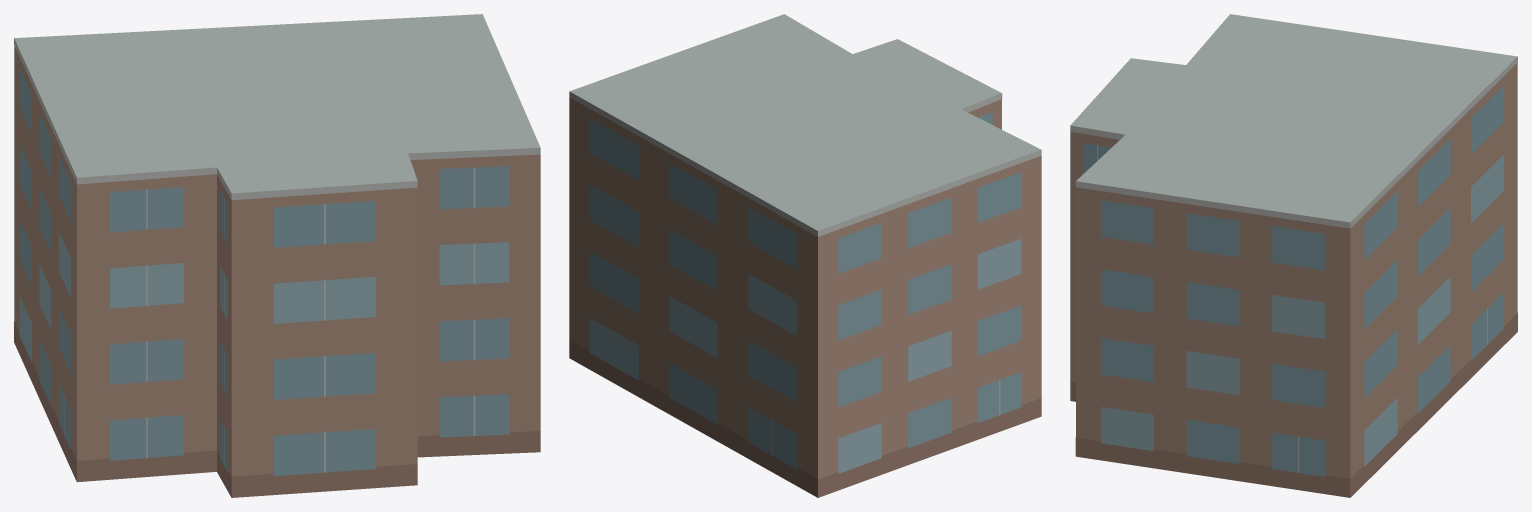
File: survey-upis-32676763.glb
The picture shows the model from 3 angles, left to right: view 1: azimuth 30°, elevation 25°; view 2: azimuth 150°, elevation 25°; view 3: azimuth 270°, elevation 25°; orthographic projection. The views are drawn at different scales.
Visible parts, largest first — view 1: survey-upis-32676763.tmp; view 2: survey-upis-32676763.tmp; view 3: survey-upis-32676763.tmp.
Part boxes in pixels (<box>): survey-upis-32676763.tmp: <box>14,14,540,497</box>; survey-upis-32676763.tmp: <box>569,14,1041,497</box>; survey-upis-32676763.tmp: <box>1070,14,1517,497</box>.
Size of the model in its own units: 18.03 by 11.1 by 16.36.
